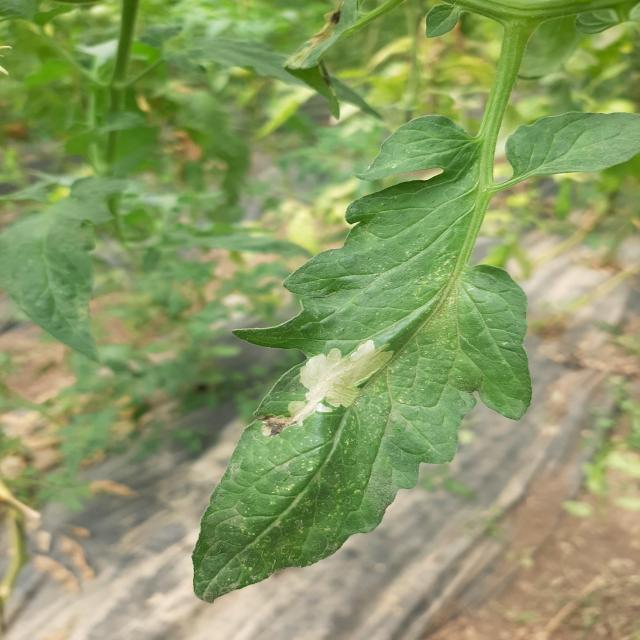Tuta absoluta: (242, 325, 406, 444)
